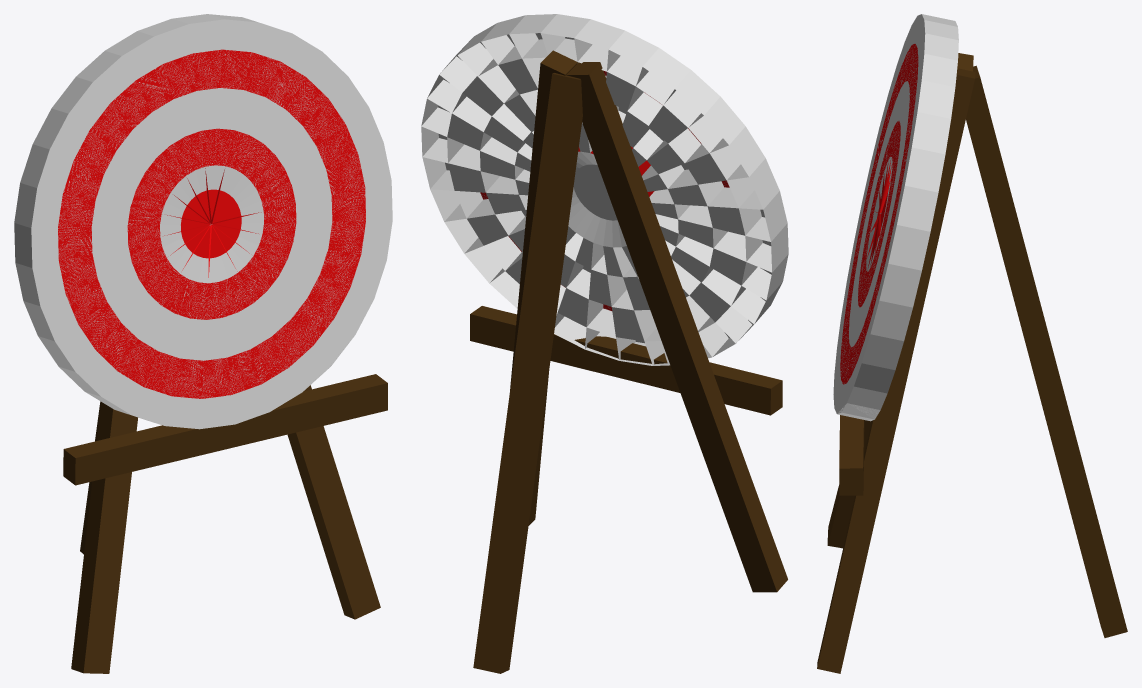
File: ArcheryTargetUnity.fbx
The picture shows the model from 3 angles, left to right: view 1: azimuth 30°, elevation 25°; view 2: azimuth 150°, elevation 25°; view 3: azimuth 270°, elevation 25°; orthographic projection. The views are drawn at different scales.
Parts seen in each view (by area): view 1: Circle, Cube.004, Cube.002, Cube.001; view 2: Circle, Cube.003, Cube.002, Cube.004, Cube.001; view 3: Circle, Cube.003, Cube.001, Cube.004, Cube.002.
Part boxes in pixels (x1,y1,x2,y2): Circle: [14, 14, 392, 429]; Cube.004: [63, 374, 387, 485]; Cube.002: [71, 402, 137, 673]; Cube.001: [287, 385, 380, 619]; Circle: [421, 14, 788, 365]; Cube.003: [473, 73, 582, 673]; Cube.002: [566, 62, 787, 592]; Cube.004: [470, 306, 782, 415]; Cube.001: [510, 50, 577, 525]; Circle: [833, 14, 958, 421]; Cube.003: [966, 65, 1127, 637]; Cube.001: [817, 68, 975, 673]; Cube.004: [839, 415, 864, 495]; Cube.002: [827, 53, 973, 548].
Bounding box in the file's own units: 194 × 311 × 147.
